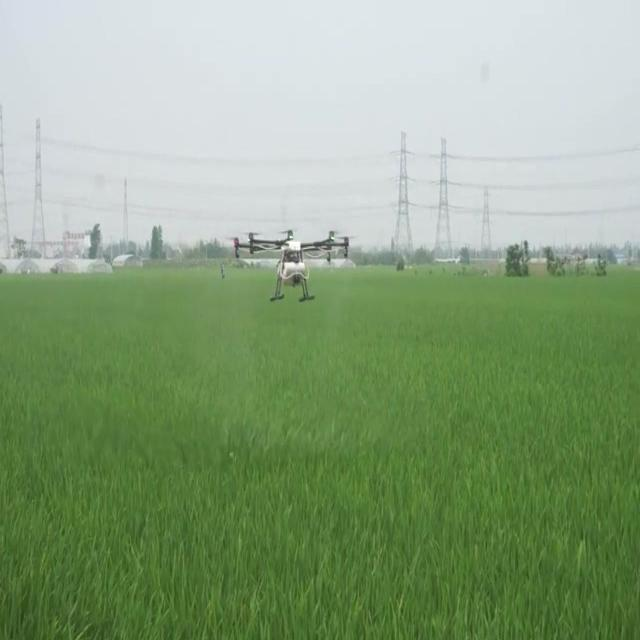drone: (228, 224, 351, 307)
